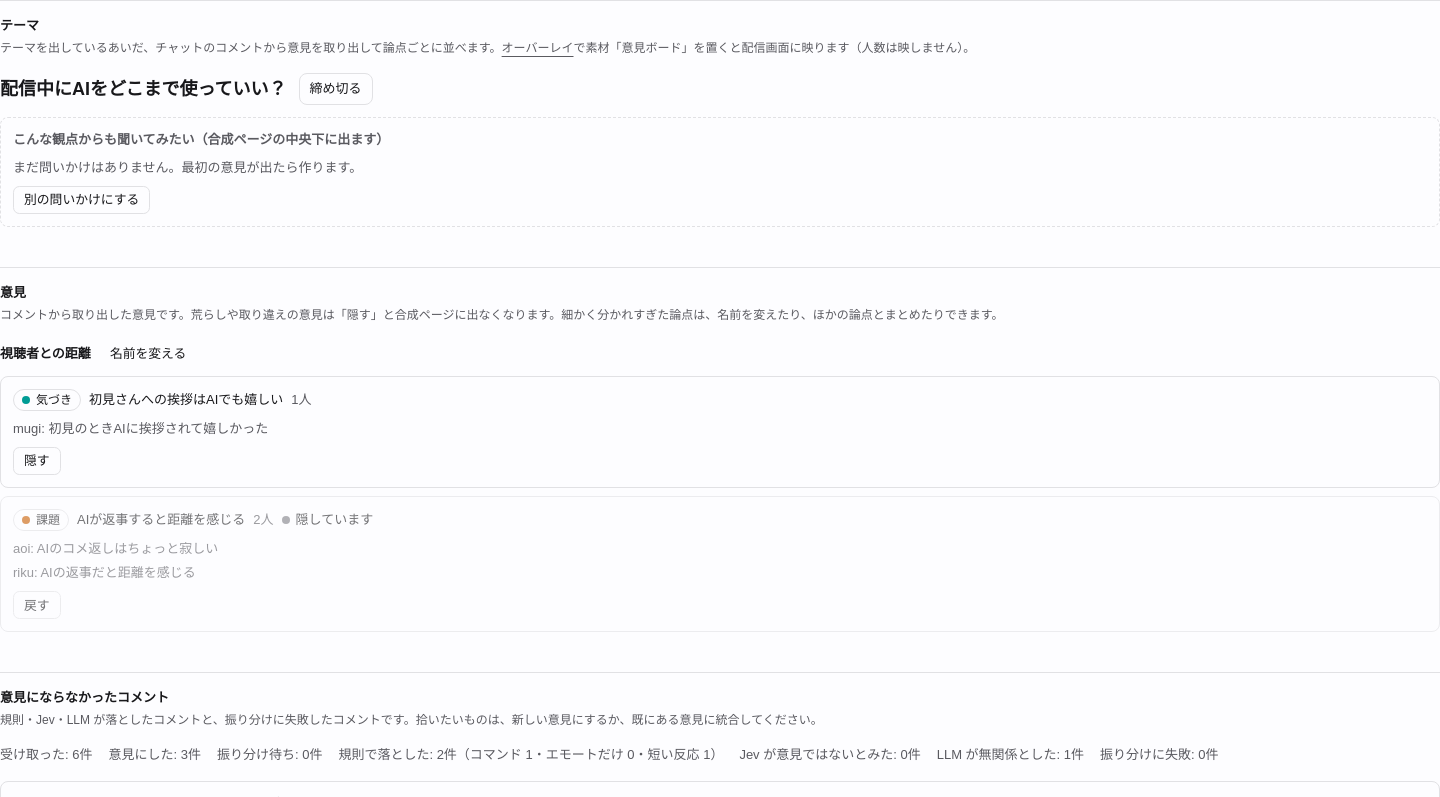
Scenario: テーマ › テーマを出しているあいだは、確かめてから締め切れる
What coordinates should you click on to do the following:
click the button "締め切る"
I would click on:
 (336, 89)
Its box is [299,73,373,105].
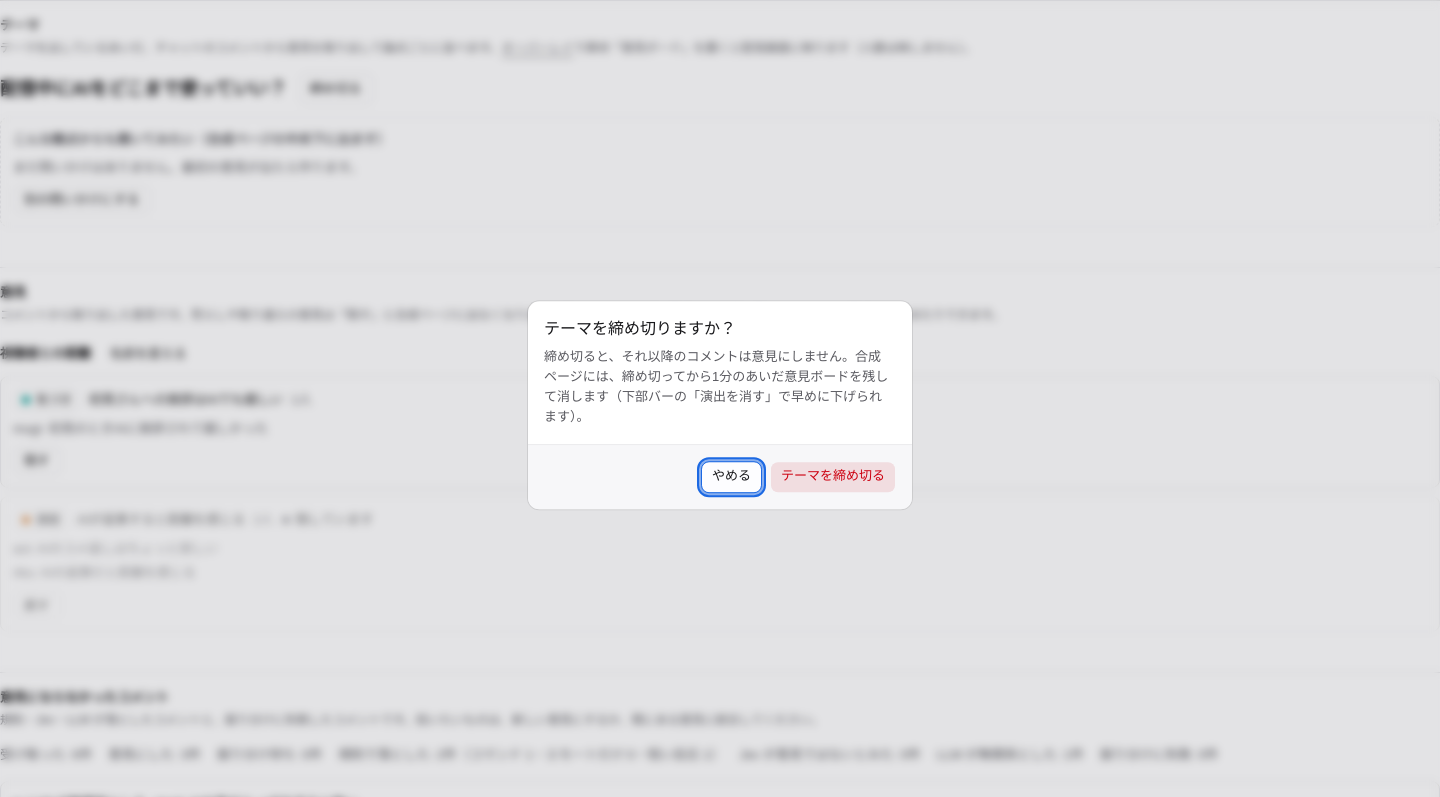
What coordinates should you click on to do the following:
click the button "テーマを締め切る"
I would click on:
 (833, 477)
Its box is [770,461,896,493].
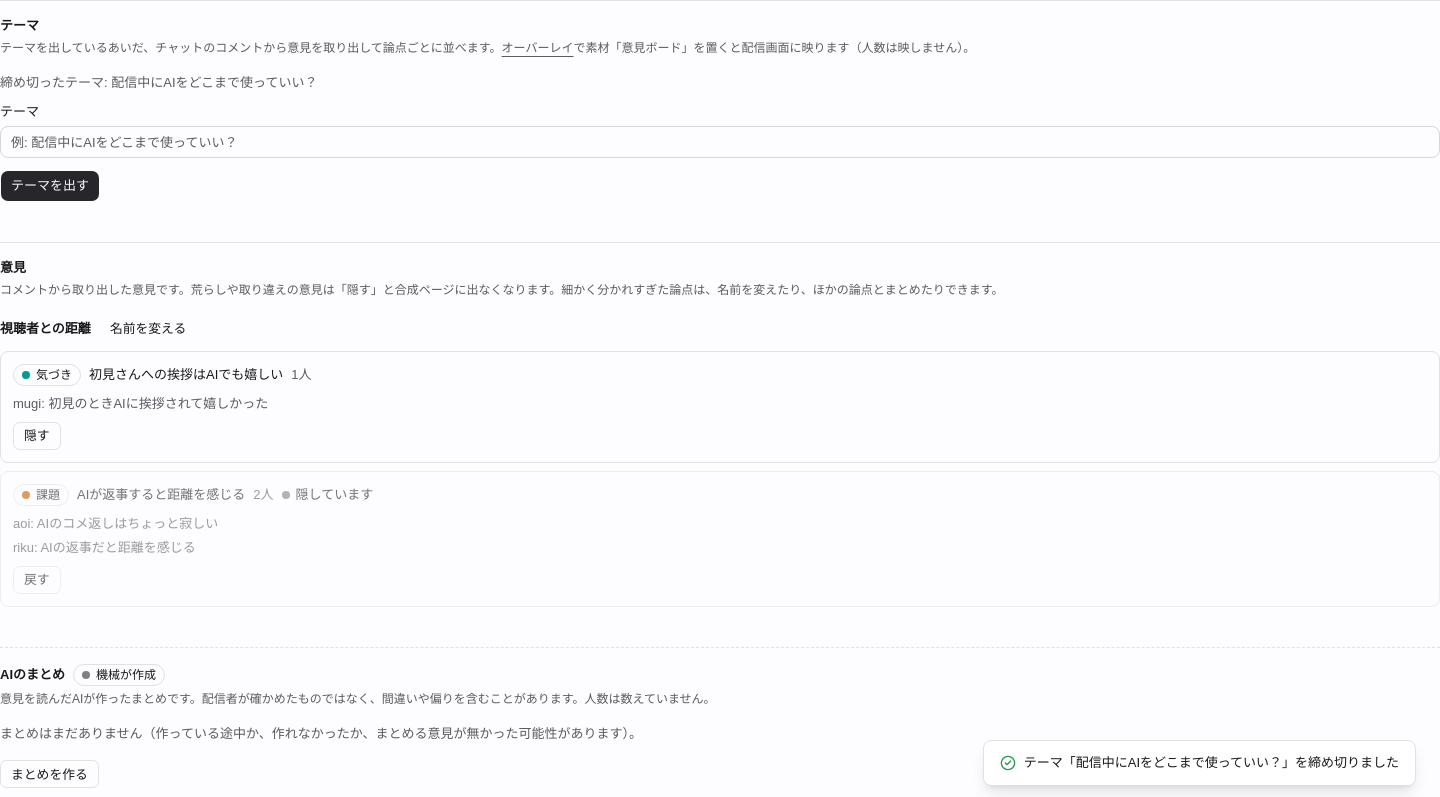
Check: the button "テーマを出す" is shown, box [0,170,100,202]
